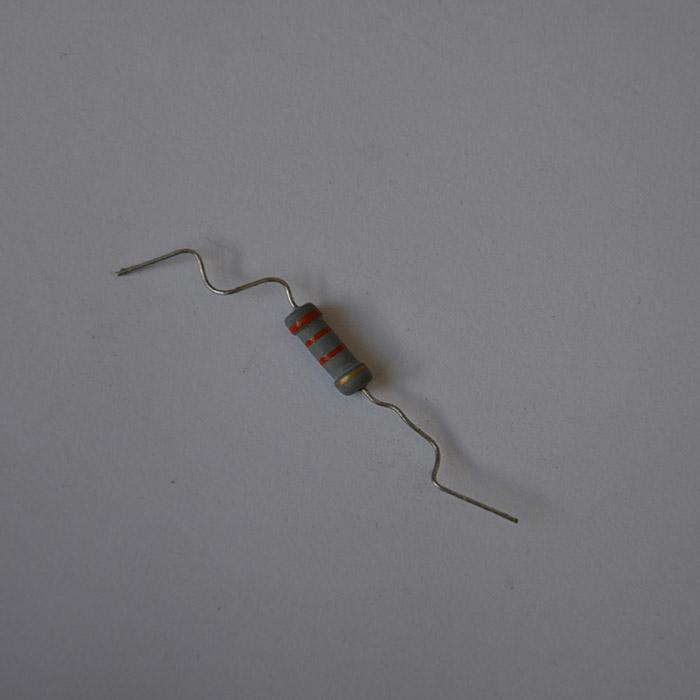resistor: (283, 301, 370, 396)
